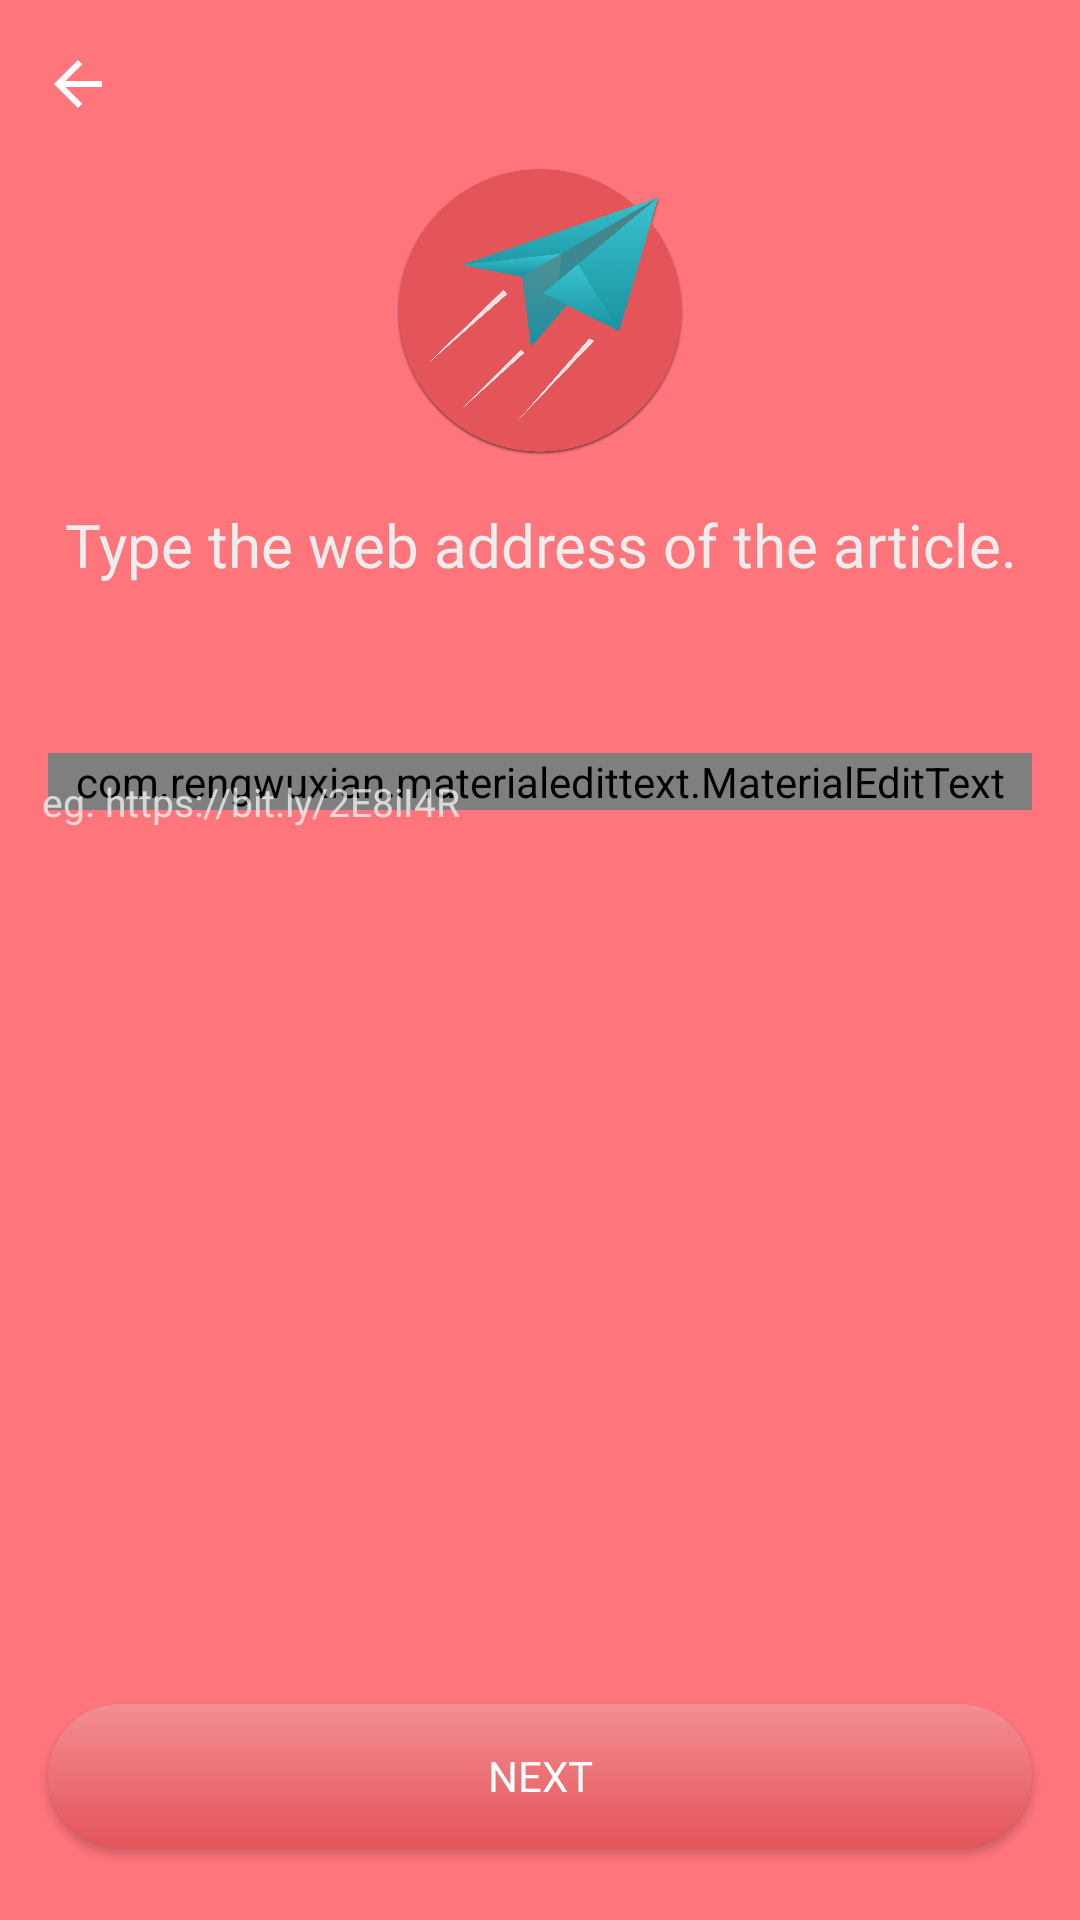

Locate icon controls on the screen. Image size 1080 x 1920, boxes as box(x1, y1, x2, y2).
arrow back: box(54, 60, 102, 108)
send: box(398, 169, 682, 454)
